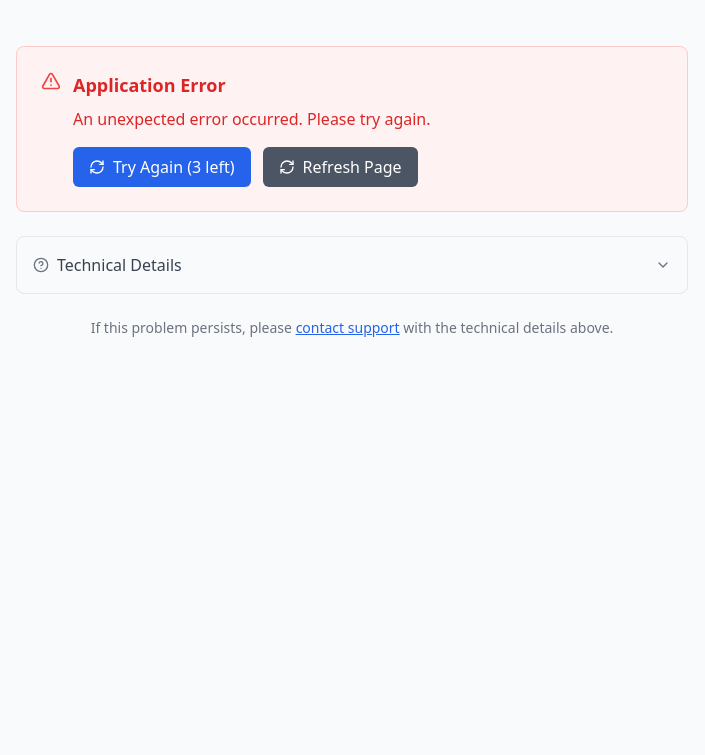
Test: DiffSynthErrorBoundary › toggles technical details visibility
Click the button "Technical Details" at [119, 265], box [17, 237, 687, 293]
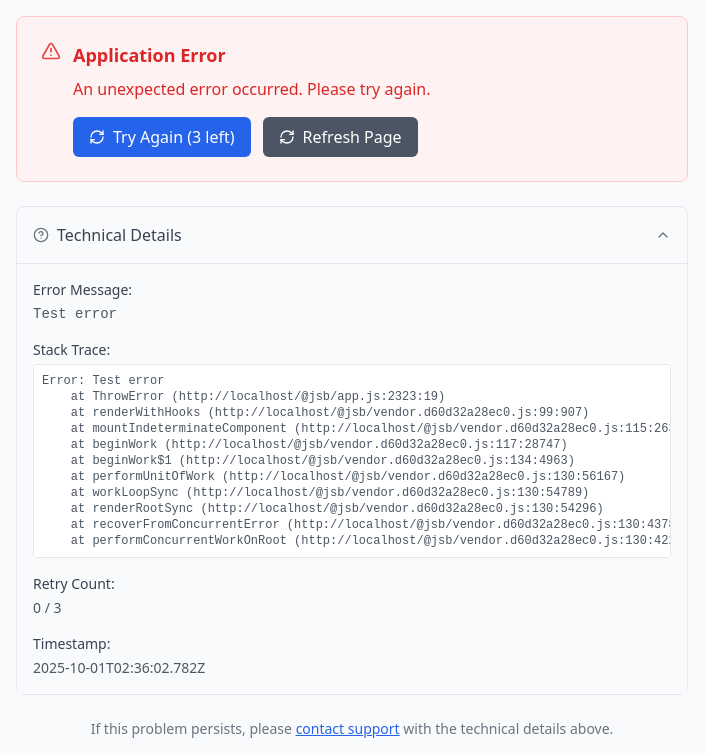
Expected: the heading "Error Message:" is shown, [33, 280, 132, 299]
Expected: the text "Test error" is shown, [33, 306, 117, 322]
